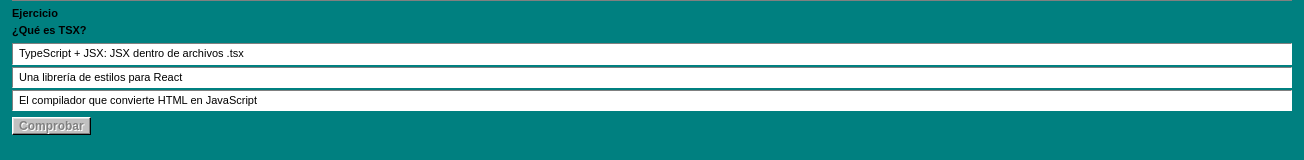
Test case: LessonQuiz › una opción incorrecta muestra el mensaje de error
Click the button "Una librería de estilos para React" at coordinates (101, 77), box 12,67 -> 1292,88
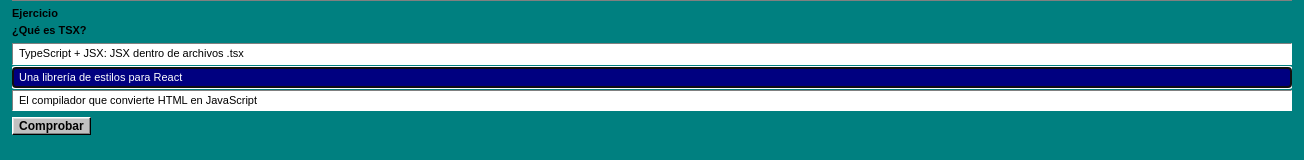
Click the button "Comprobar" at coordinates (51, 126), box 12,117 -> 91,135
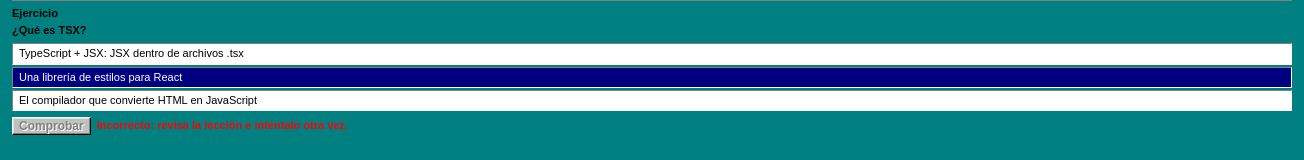
Now the text "Incorrecto: revisa la lección e inténtalo otra vez." is shown, box 97,119 -> 348,132
